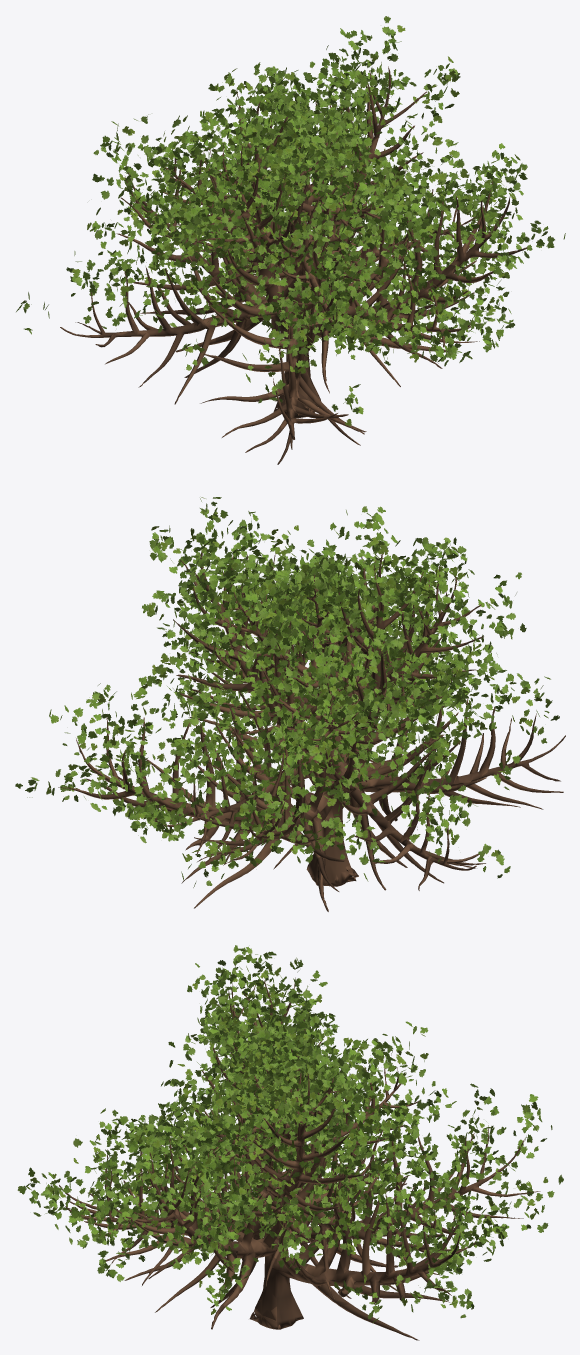
Rendered from oak_sapling_v011.glb.
3 renders of one model, top to bottom at view 1: azimuth 30°, elevation 25°; view 2: azimuth 150°, elevation 25°; view 3: azimuth 270°, elevation 25°, orthographic. The views are drawn at different scales.
Parts seen in each view (by area): view 1: Oak foliage cards, Oak_Sapling_Fused_Bark_V011; view 2: Oak foliage cards, Oak_Sapling_Fused_Bark_V011; view 3: Oak foliage cards, Oak_Sapling_Fused_Bark_V011.
Boxes of the visible parts, x1,y1,x2,y2 form: Oak foliage cards: [16, 16, 565, 426]; Oak_Sapling_Fused_Bark_V011: [60, 66, 527, 464]; Oak foliage cards: [15, 497, 559, 887]; Oak_Sapling_Fused_Bark_V011: [58, 544, 565, 911]; Oak foliage cards: [17, 945, 563, 1323]; Oak_Sapling_Fused_Bark_V011: [59, 977, 540, 1340].
Size of the model in its own units: 14.49 by 11.77 by 16.42.
Materials: 2 (2 with a texture image).
